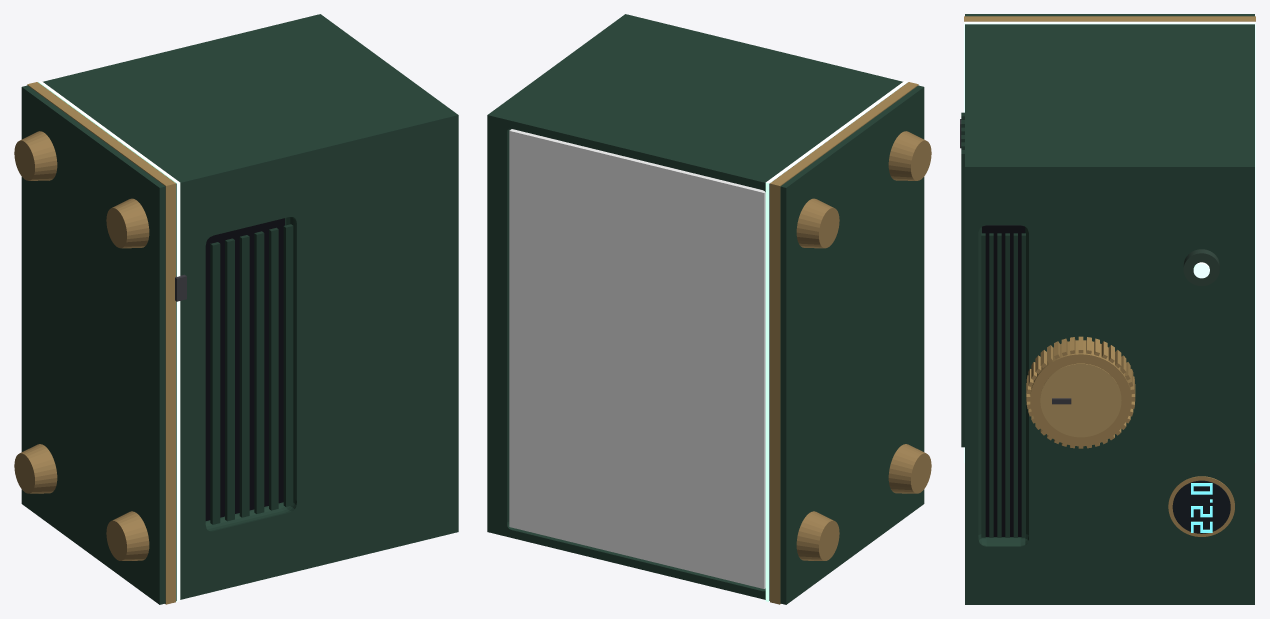
The model's file is form_b_green.glb.
The picture shows the model from 3 angles, left to right: view 1: azimuth 30°, elevation 25°; view 2: azimuth 150°, elevation 25°; view 3: azimuth 270°, elevation 25°; orthographic projection. The views are drawn at different scales.
Parts seen in each view (by area): view 1: Body, IntakeGrille, IntakeCavity, Feet, Band, MintLine; view 2: Body, FrontMesh, Feet, Band, MintLine; view 3: Body, Knob, HotVent, HotVentCavity, DisplayGlass, Band, MintLine, IntakeGrille, CoolKey, DisplayBezel, Display.
Part boxes in pixels (x1=…): Body: x1=21, y1=14, x2=458, y2=604; IntakeGrille: x1=210, y1=224, x2=293, y2=524; IntakeCavity: x1=205, y1=218, x2=284, y2=520; Feet: x1=14, y1=131, x2=149, y2=560; Band: x1=27, y1=82, x2=175, y2=604; MintLine: x1=38, y1=81, x2=180, y2=601; Body: x1=487, y1=14, x2=924, y2=604; FrontMesh: x1=509, y1=129, x2=765, y2=588; Feet: x1=796, y1=131, x2=931, y2=560; Band: x1=770, y1=82, x2=918, y2=604; MintLine: x1=765, y1=81, x2=907, y2=601; Body: x1=965, y1=14, x2=1254, y2=604; Knob: x1=1026, y1=336, x2=1135, y2=448; HotVent: x1=981, y1=233, x2=1025, y2=537; HotVentCavity: x1=982, y1=225, x2=1025, y2=536; DisplayGlass: x1=1172, y1=480, x2=1230, y2=533; Band: x1=964, y1=16, x2=1255, y2=21; MintLine: x1=964, y1=21, x2=1255, y2=462; IntakeGrille: x1=961, y1=112, x2=964, y2=447; CoolKey: x1=1183, y1=249, x2=1219, y2=285; DisplayBezel: x1=1168, y1=476, x2=1234, y2=536; Display: x1=1191, y1=483, x2=1212, y2=532.
Size of the model in its own units: 0.1754 by 0.2008 by 0.1224.
